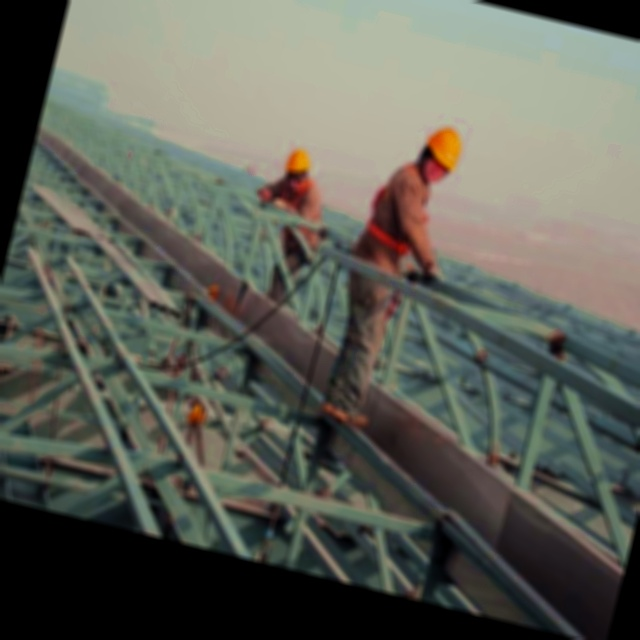Con_Casco: (415, 119, 466, 187), (281, 147, 314, 191)
